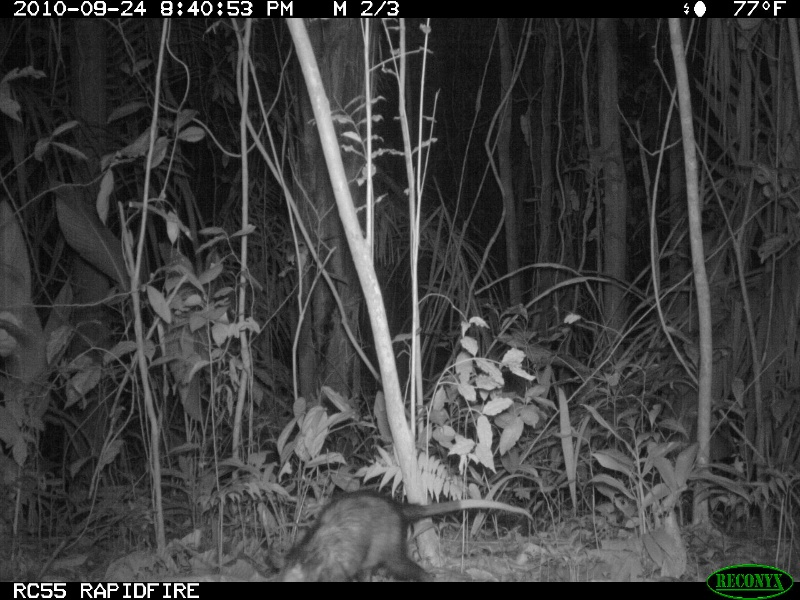opossum: (274, 495, 530, 580)
